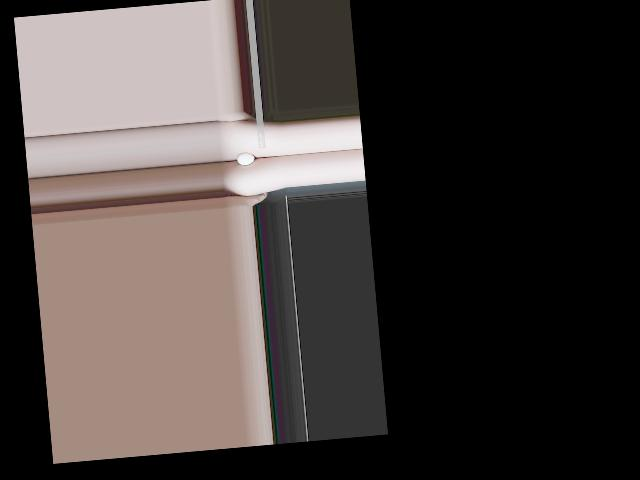egg: (237, 151, 255, 165)
